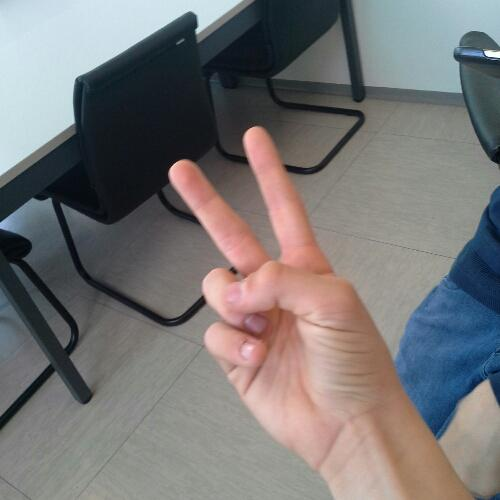scissors: (163, 121, 392, 437)
